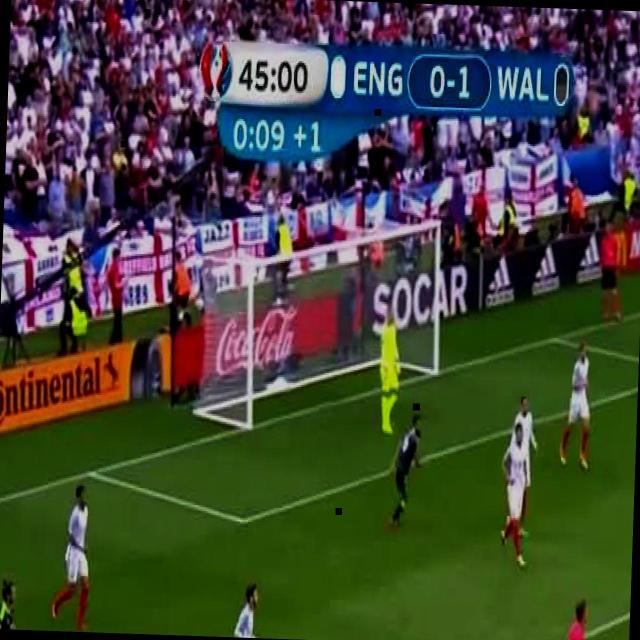player-white: (50, 483, 92, 632), (498, 421, 532, 569), (506, 392, 538, 540), (558, 343, 594, 471), (384, 415, 423, 533), (378, 306, 406, 436), (598, 220, 626, 322), (220, 579, 262, 638), (0, 572, 35, 630), (554, 598, 592, 640)
